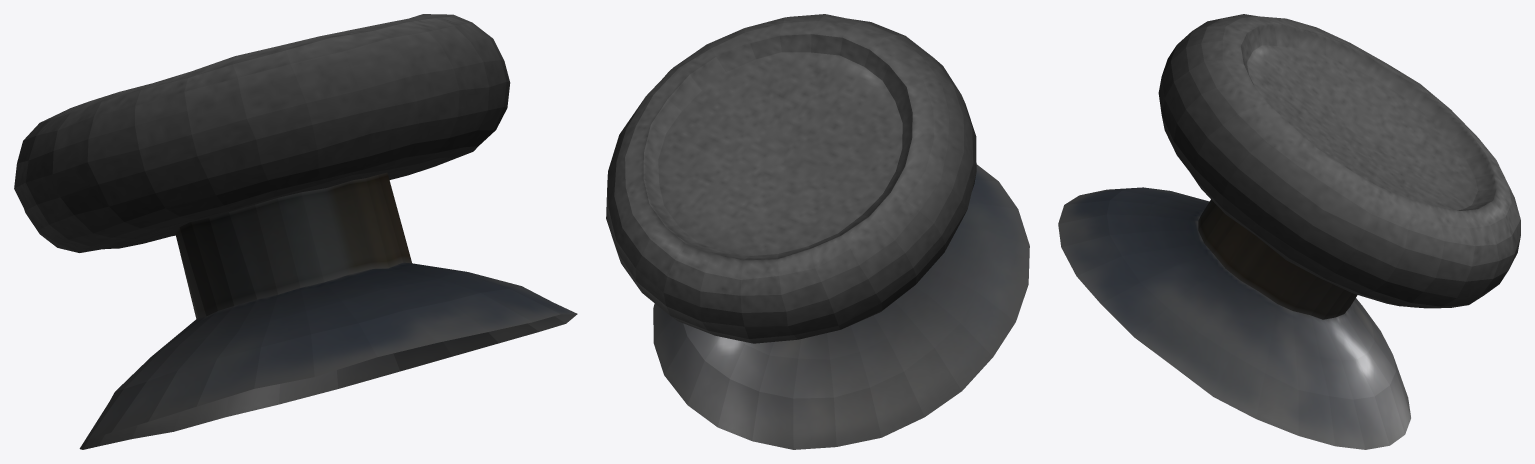
File: YVR_d3_left_joystick.obj
The picture shows the model from 3 angles, left to right: view 1: azimuth 30°, elevation 25°; view 2: azimuth 150°, elevation 25°; view 3: azimuth 270°, elevation 25°; orthographic projection. The views are drawn at different scales.
Visible parts, largest first — view 1: yvr_d3_left_joystick; view 2: yvr_d3_left_joystick; view 3: yvr_d3_left_joystick.
Part boxes in pixels (left/top/right/bottom): yvr_d3_left_joystick: left=14, top=14, right=577, bottom=449; yvr_d3_left_joystick: left=606, top=14, right=1029, bottom=449; yvr_d3_left_joystick: left=1058, top=14, right=1520, bottom=449.
Size of the model in its own units: 0.0135 by 0.0135 by 0.0152.
Materials: 1 (1 with a texture image).
